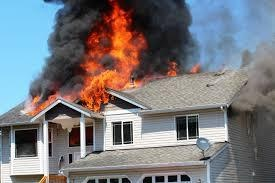fire: (77, 4, 147, 112), (162, 58, 199, 79)
